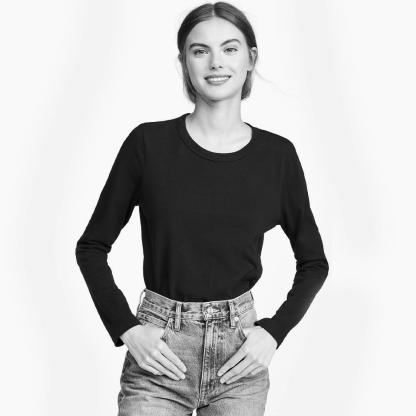dress: (69, 112, 328, 351)
